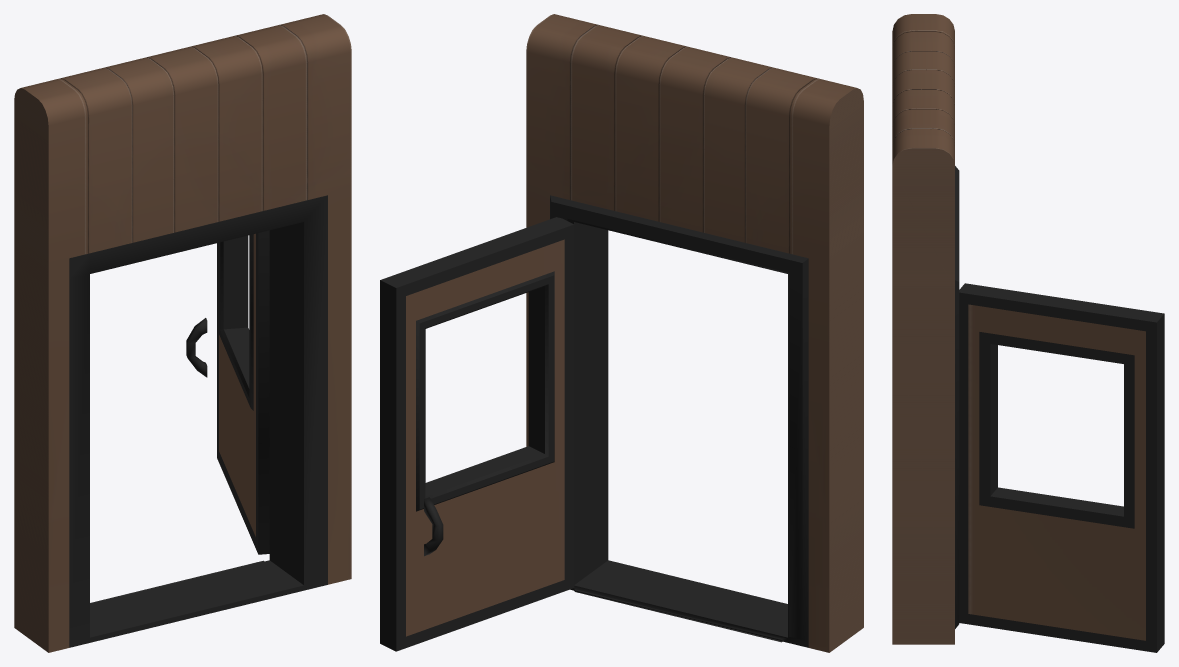
The model's file is WallDoor_GEO.fbx.
3 renders of one model, left to right at view 1: azimuth 30°, elevation 25°; view 2: azimuth 150°, elevation 25°; view 3: azimuth 270°, elevation 25°, orthographic. The views are drawn at different scales.
Visible parts, largest first — view 1: WallDoor_GEO; view 2: WallDoor_GEO; view 3: WallDoor_GEO.
Part boxes in pixels (x1,y1,x2,y2): WallDoor_GEO: (14, 14, 351, 652); WallDoor_GEO: (380, 14, 863, 652); WallDoor_GEO: (892, 14, 1164, 652).
Size of the model in its own units: 316 by 488 by 242.
Materials: 1 (1 with a texture image).
